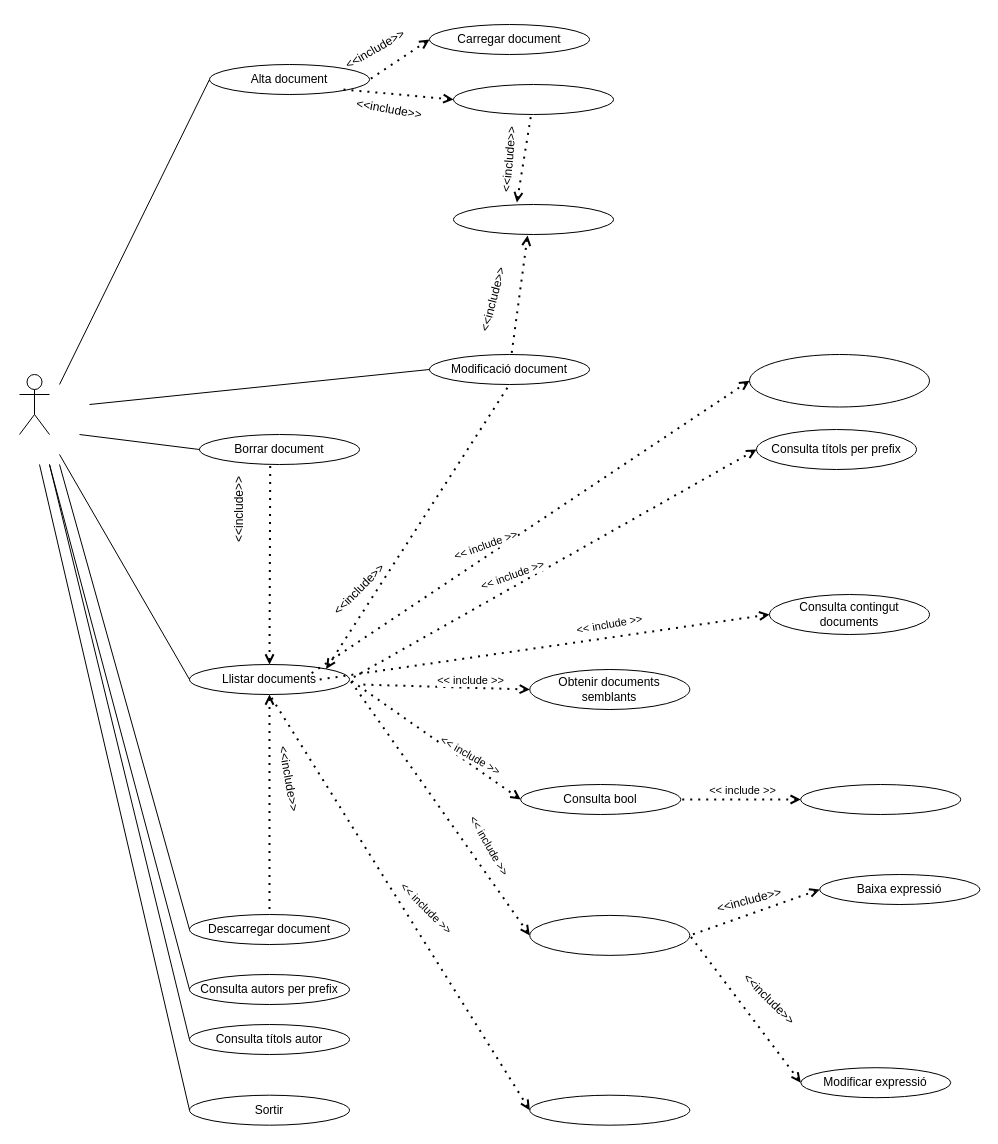
The diagram is 998 pixels wide and 1144 high, and some of its shapes have lost their labels. The shapes that lost their labels are listed below. From the top down, each one's box as (x1, y1, x2, y2) in pixels, then its label:
(452, 84, 614, 114): Crear document
(452, 204, 614, 234): Editar document
(748, 354, 930, 407): Consulta document per títol i autor
(18, 374, 50, 434): Usuari
(800, 784, 961, 814): Guardar expressió
(529, 914, 690, 955): Gestionar expressions booleanes
(529, 1094, 690, 1125): Ordenar llista
